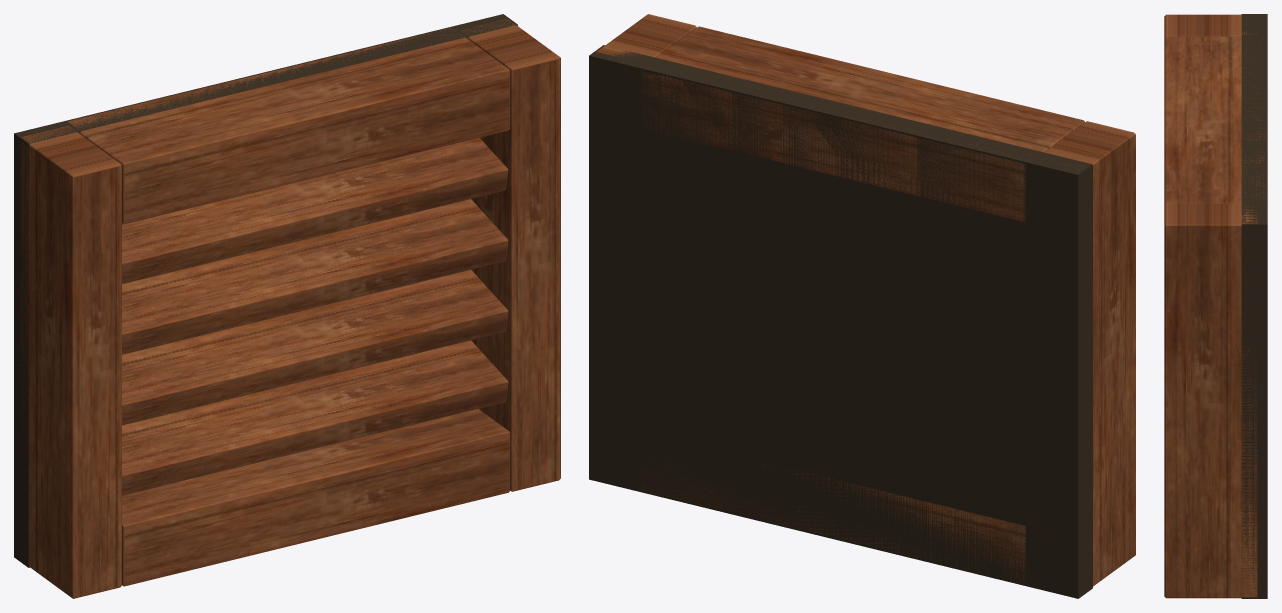
The model's file is dyers-loft-vent.glb.
3 renders of one model, left to right at view 1: azimuth 30°, elevation 25°; view 2: azimuth 150°, elevation 25°; view 3: azimuth 270°, elevation 25°, orthographic. The views are drawn at different scales.
Visible parts, largest first — view 1: dyers-loft-vent; view 2: dyers-loft-vent; view 3: dyers-loft-vent.
Boxes of the visible parts, x1=… form: dyers-loft-vent: x1=14, y1=14, x2=560, y2=598; dyers-loft-vent: x1=589, y1=14, x2=1135, y2=598; dyers-loft-vent: x1=1164, y1=14, x2=1267, y2=598.
Bounding box in the file's own units: 0.58 × 0.48 × 0.12.
Materials: 2 (1 with a texture image).
